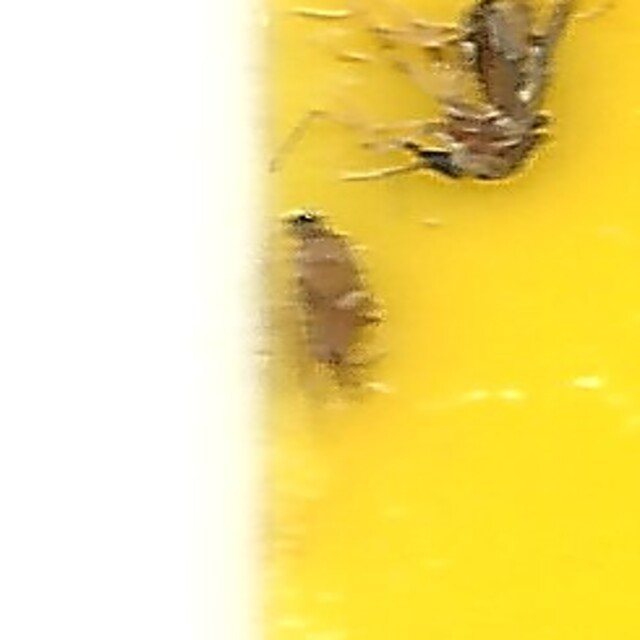Trichoptera: (261, 208, 379, 432)
